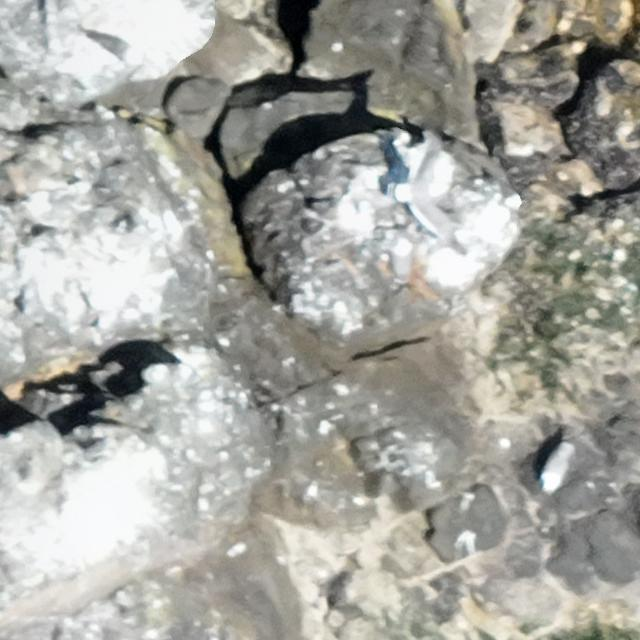F: (402, 144, 455, 245)
umineko: (542, 440, 578, 494), (141, 359, 192, 388), (92, 37, 134, 58)
